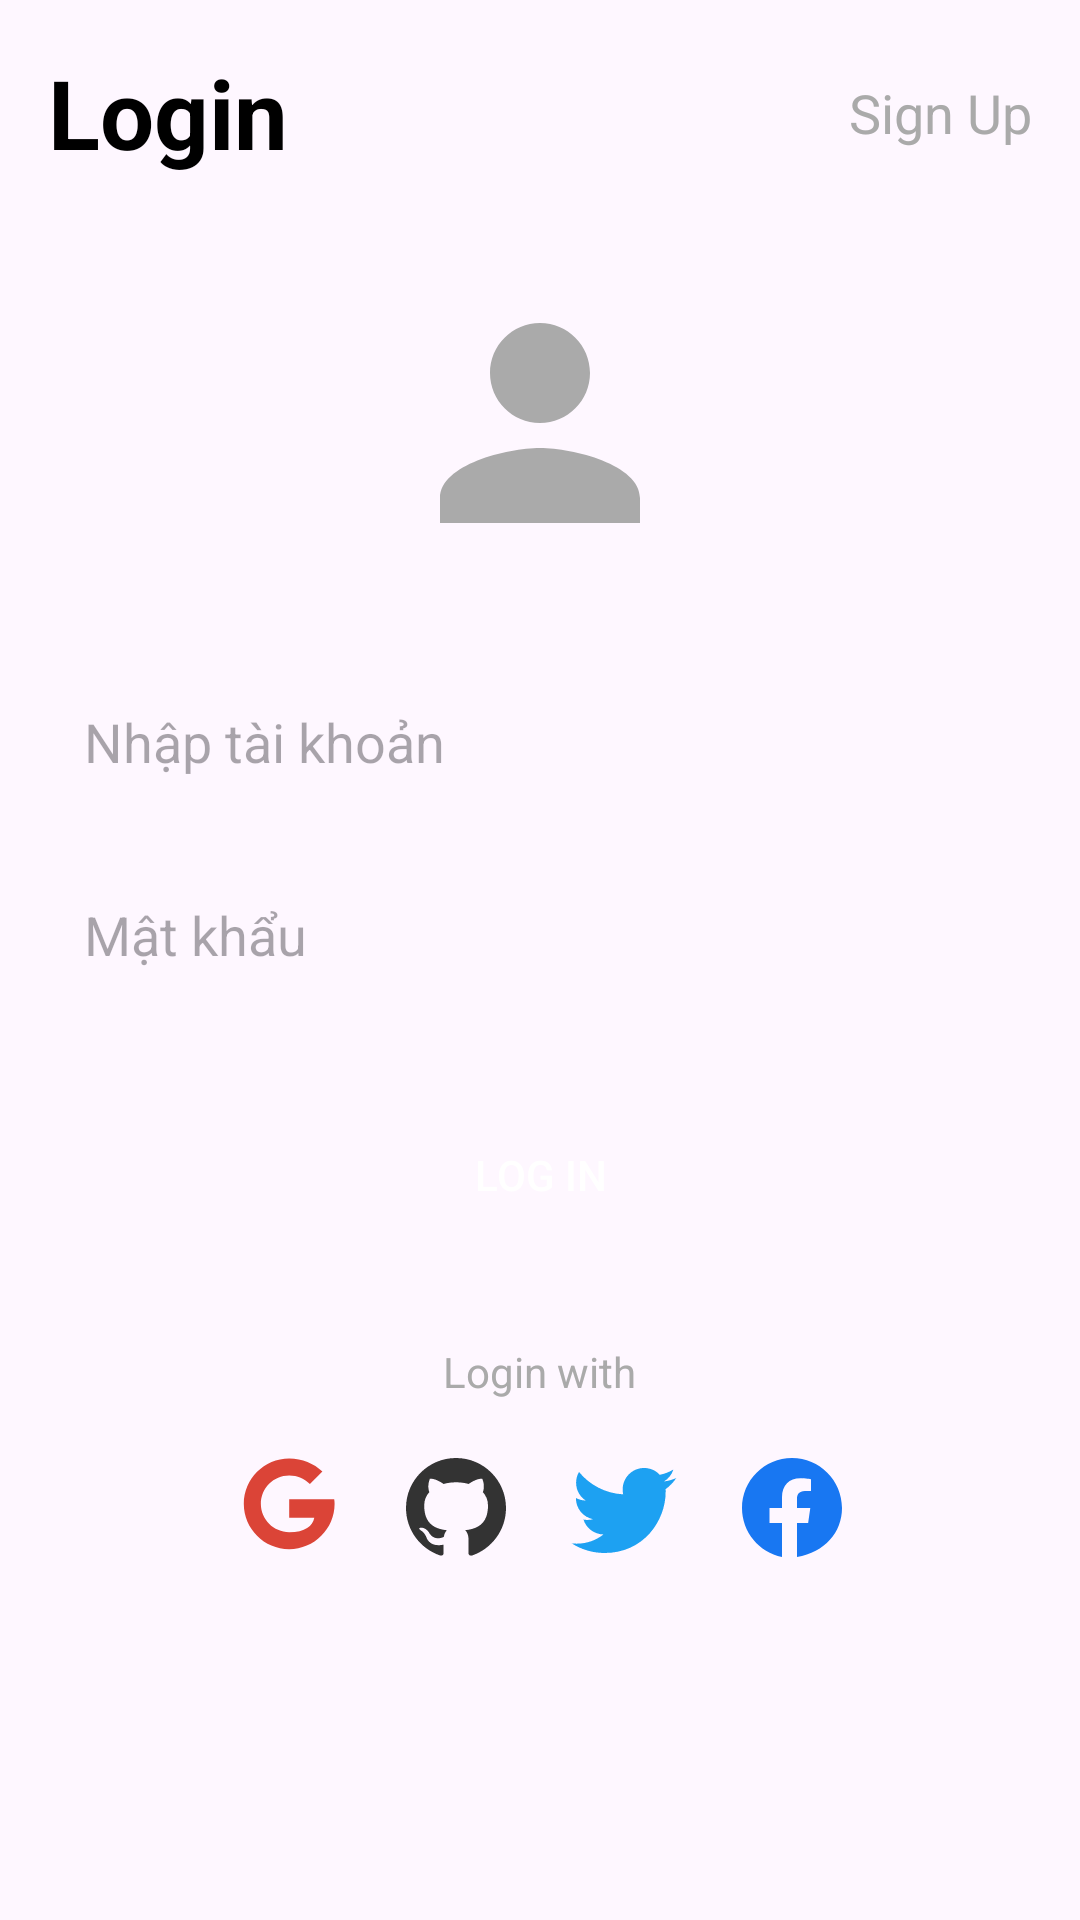

Screen size 1080×1920. Icon name, then its box in pixels as (x1, y1, x2, y2):
person: (440, 323, 640, 523)
